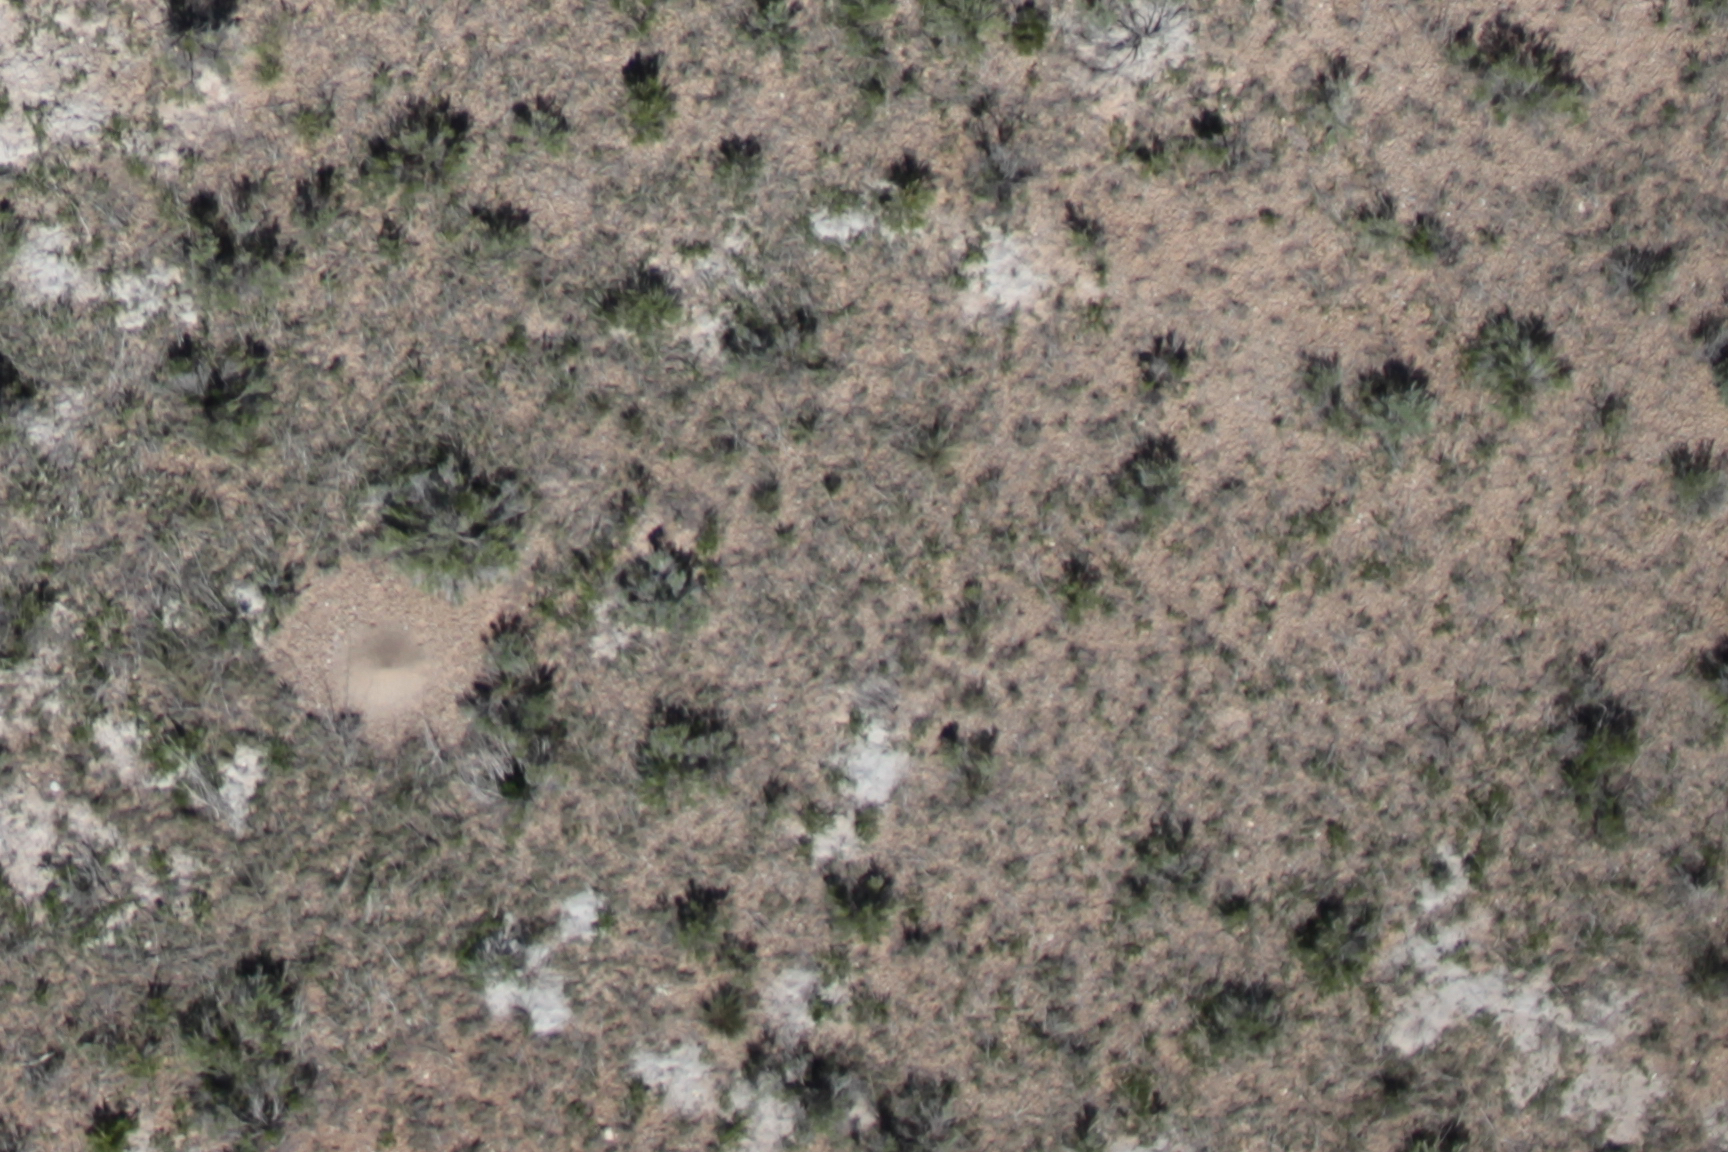burrow: (341, 626, 433, 708)
